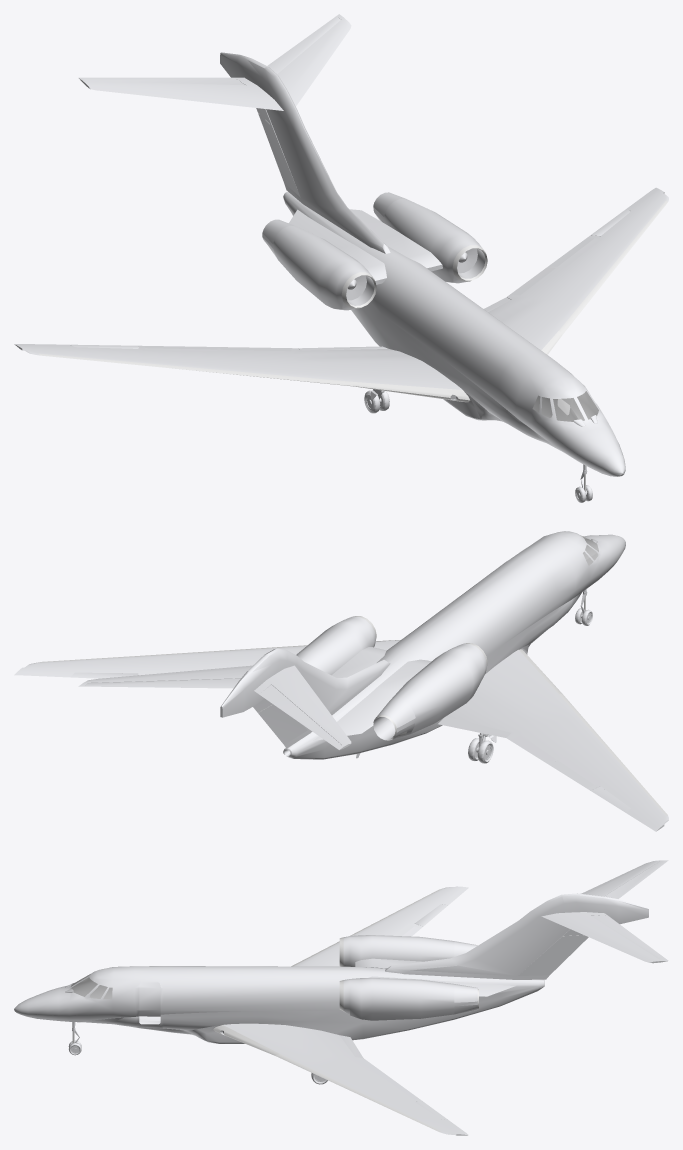
3 renders of one model, top to bottom at view 1: azimuth 30°, elevation 25°; view 2: azimuth 150°, elevation 25°; view 3: azimuth 270°, elevation 25°, orthographic. The views are drawn at different scales.
Parts seen in each view (by area): view 1: body, gear; view 2: body, gear; view 3: body.
Boxes of the visible parts, x1,y1,x2,y2 form: body: (14,14,668,492); gear: (364,389,592,502); body: (14,531,668,831); gear: (468,589,592,763); body: (14,860,668,1135).
Size of the model in its own units: 19.64 by 6.24 by 21.94.
7 materials, 5 textured.
